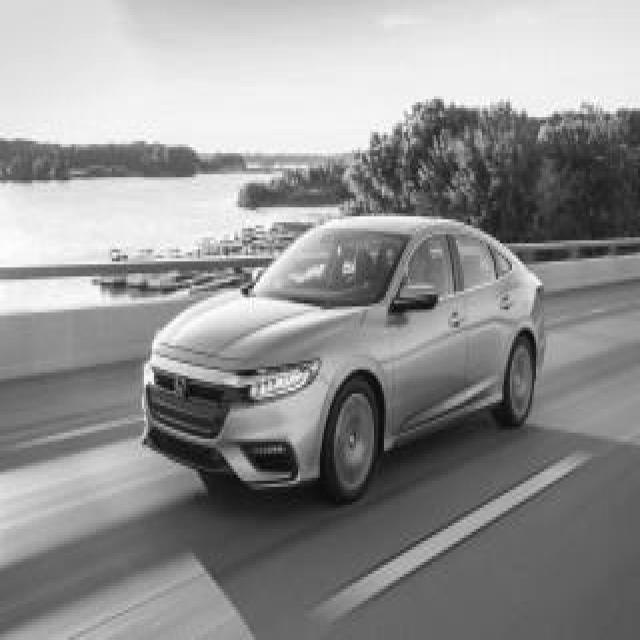Car: (145, 218, 545, 500)
